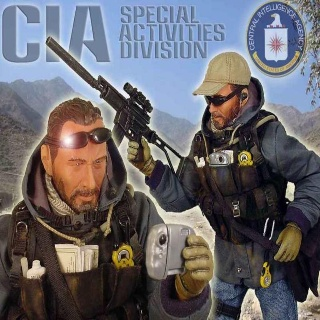rifle: (45, 35, 188, 182)
